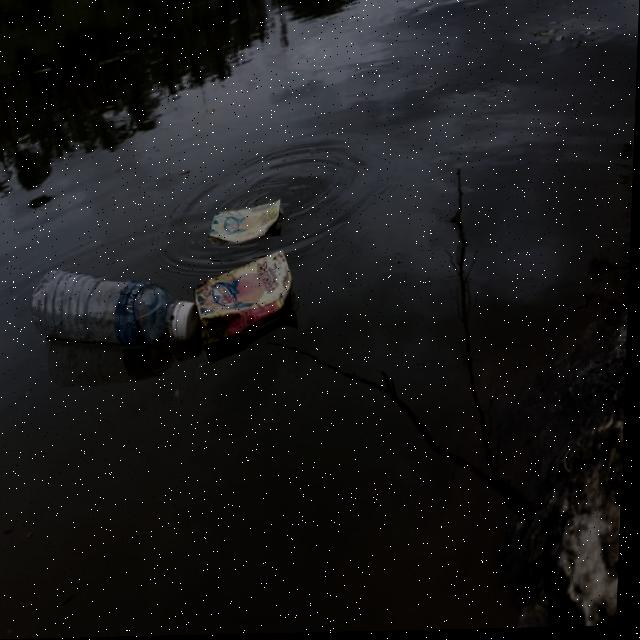paper: (207, 252, 307, 364), (192, 194, 289, 250)
waterbottle: (13, 236, 206, 392)
